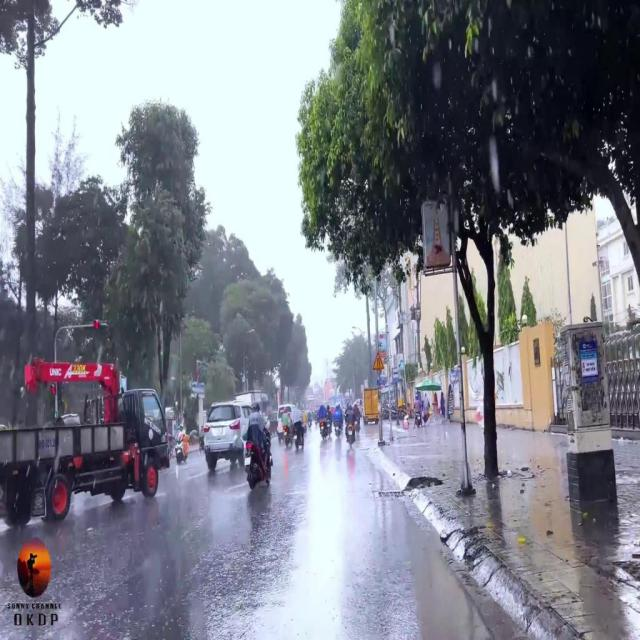khac: (372, 350, 386, 370)
